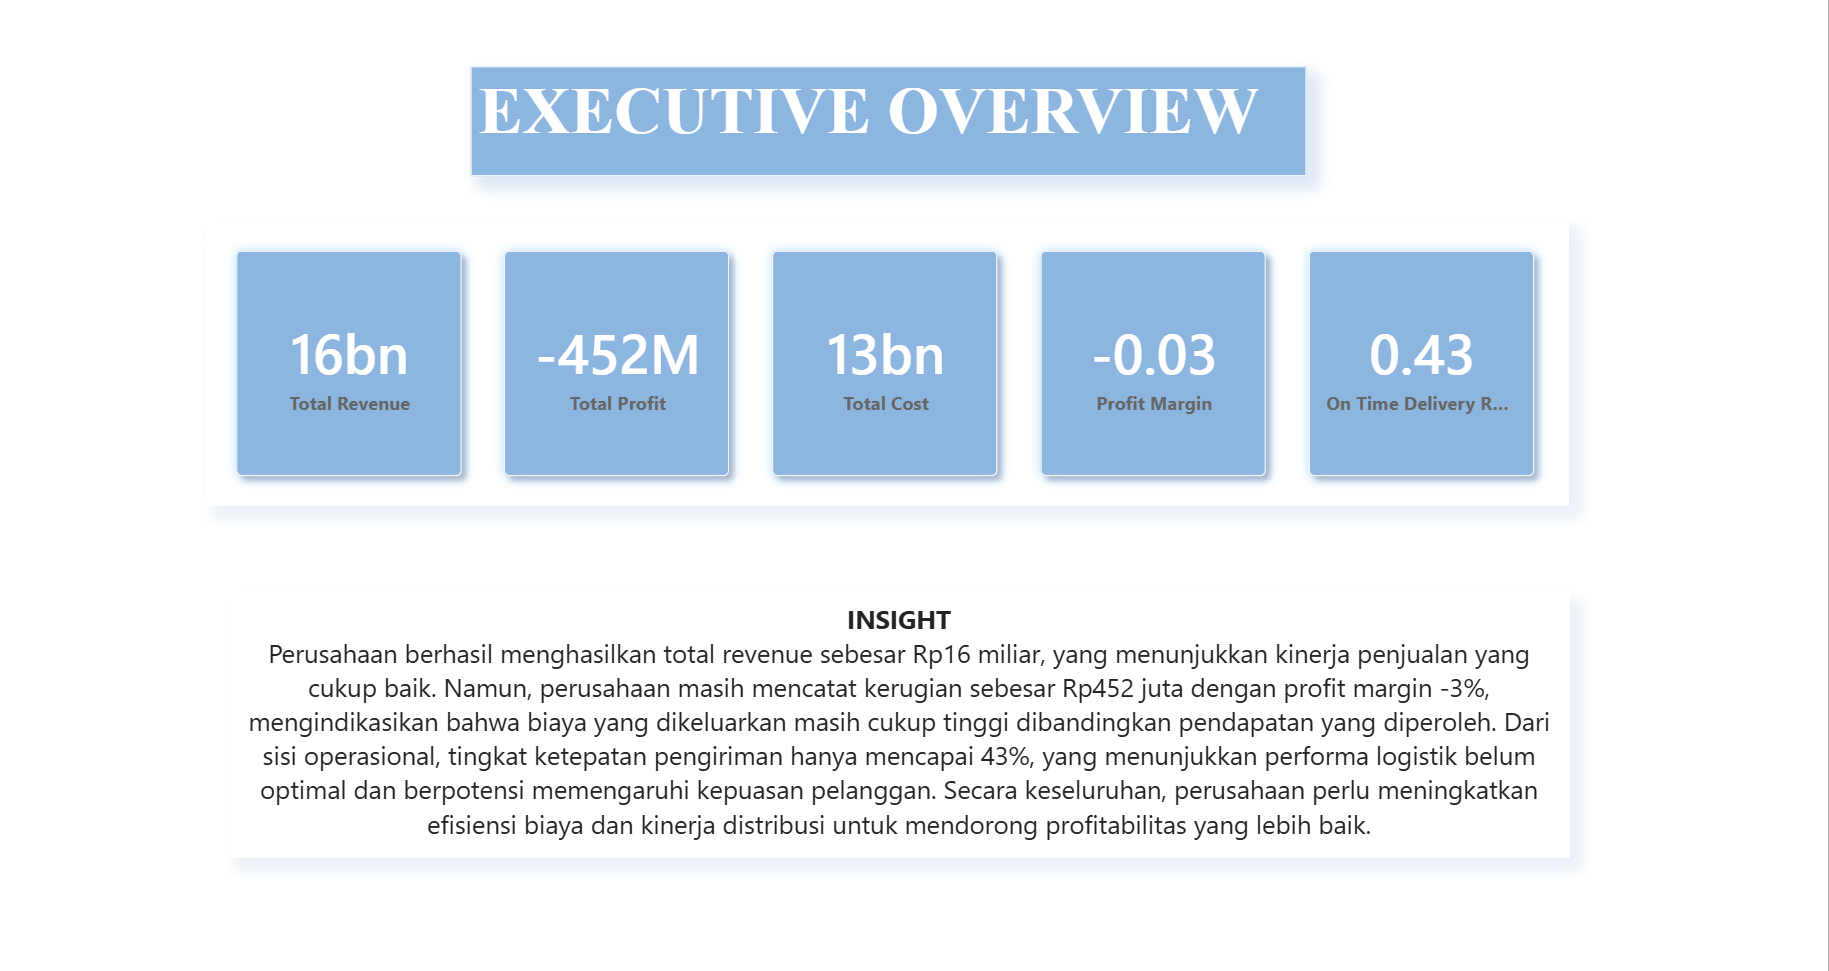

The dashboard page shown, as its layout file describes it:
{"tool":"powerbi","page":{"name":"A. EXECUTIVE OVERVIEW","canvas":[1280,720],"ordinal":0},"visuals":[{"type":"cardVisual","fields":{"Data":["FINAL PROJECT.Total Revenue","FINAL PROJECT.Total Profit","FINAL PROJECT.Total Cost","FINAL PROJECT.Profit Margin","FINAL PROJECT.On Time Delivery Rate"]},"box":[144,160,992,208],"z":0},{"type":"textbox","box":[336,48,608,80],"z":1000},{"type":"textbox","box":[160,432,976,192],"z":2000}]}

Visuals, with their boxes on the page's 1280x720 design canvas (x1, y1, x2, y2). These are canvas units, not pixel positions in the 1829x971 screenshot, which may show the page scaled, cropped or inside an application window:
cardVisual - FINAL PROJECT.Total Revenue x FINAL PROJECT.Total Profit: {"left": 144, "top": 160, "right": 1136, "bottom": 368}
textbox: {"left": 336, "top": 48, "right": 944, "bottom": 128}
textbox: {"left": 160, "top": 432, "right": 1136, "bottom": 624}
